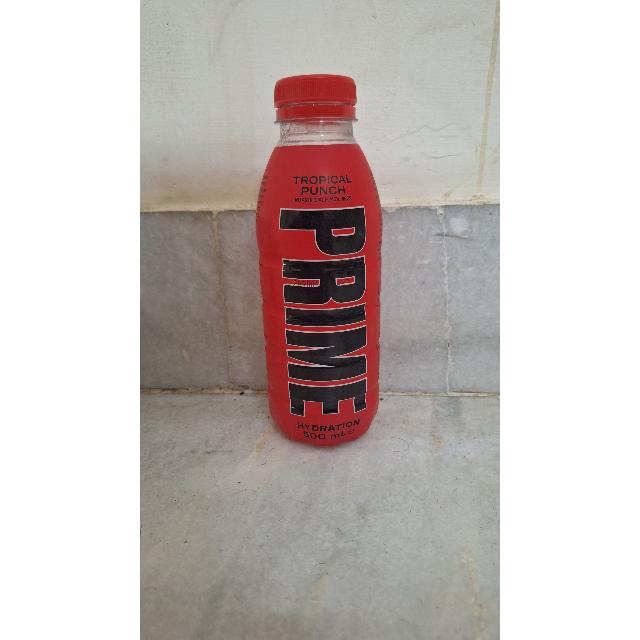Prime - Shitass: (246, 72, 390, 440)
